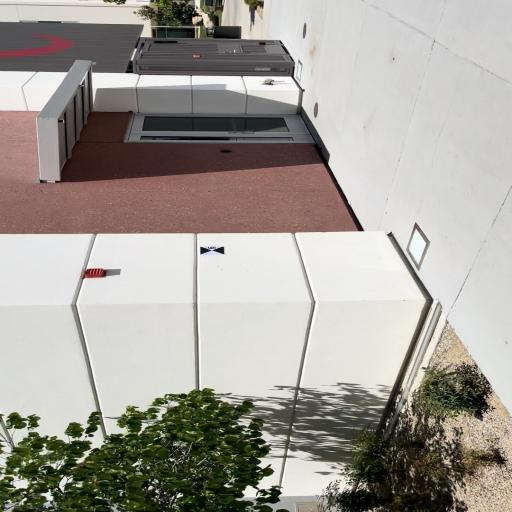target6: (200, 245, 226, 255)
